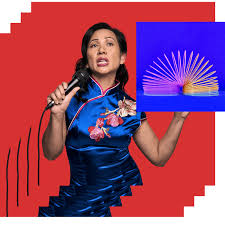asian_female: (75, 17, 128, 86)
